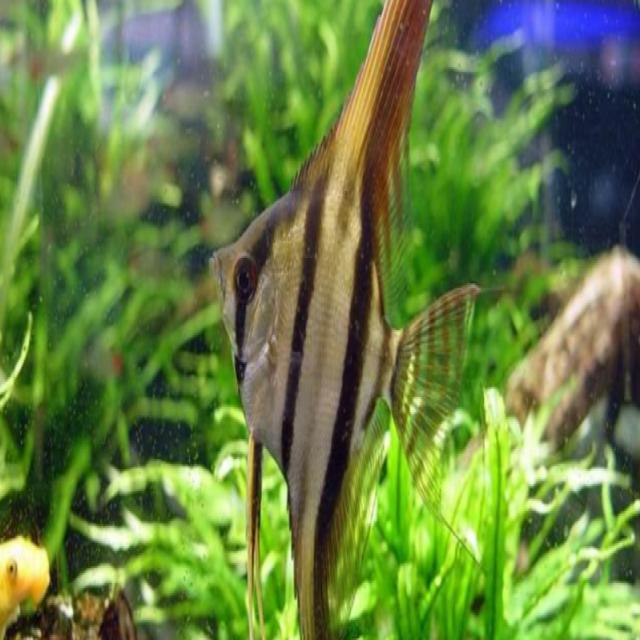AngelFish: (212, 0, 482, 620)
